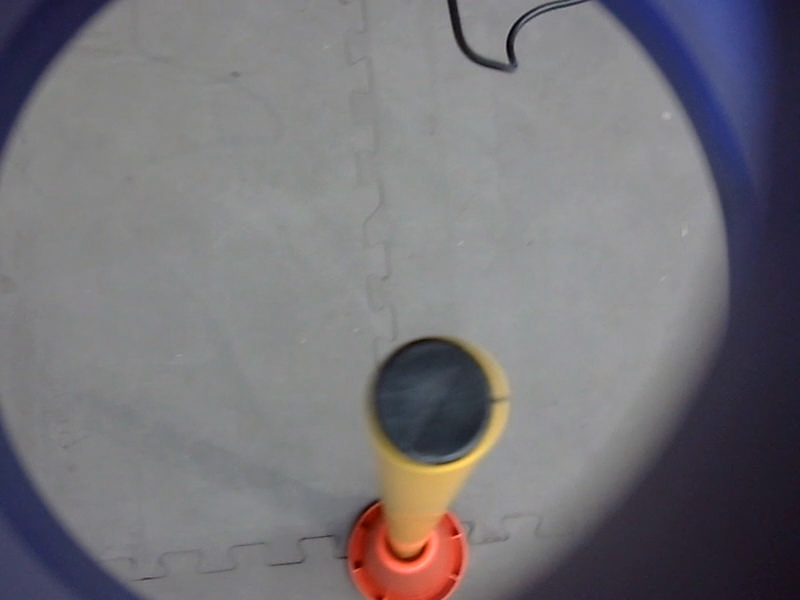tip: (354, 328, 518, 478)
